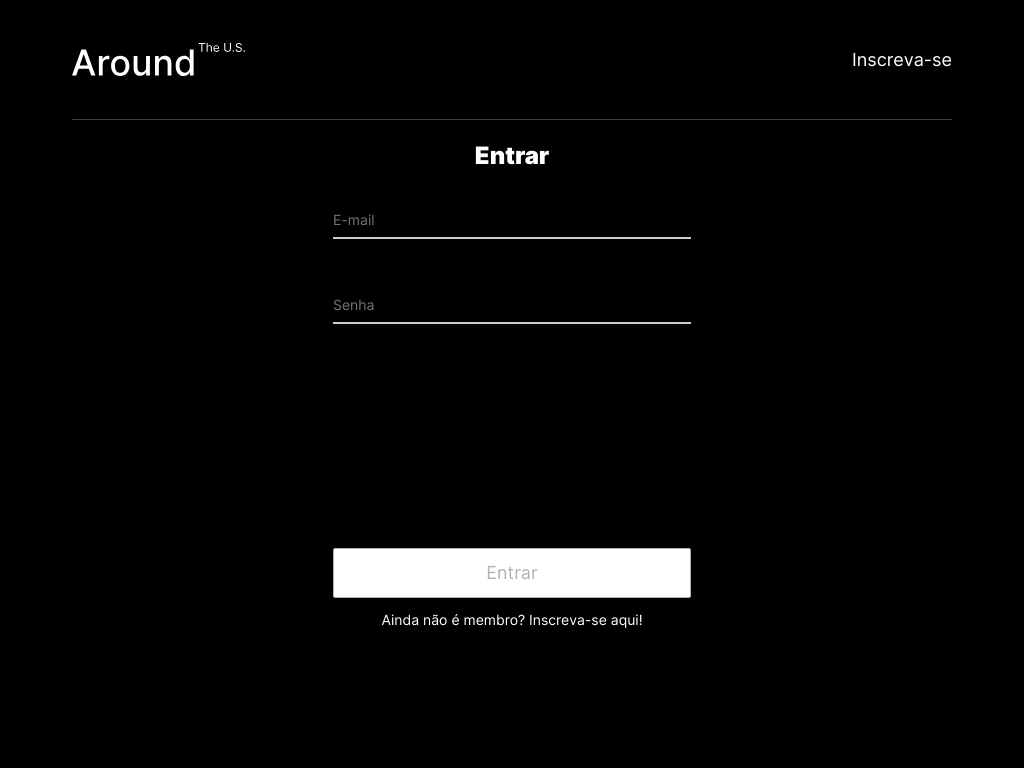
Login › não persiste nem autentica quando a verificação do JWT falha
The image size is (1024, 768).
Click the field with placeholder "E-mail": [512, 216] box [333,192,691,239]
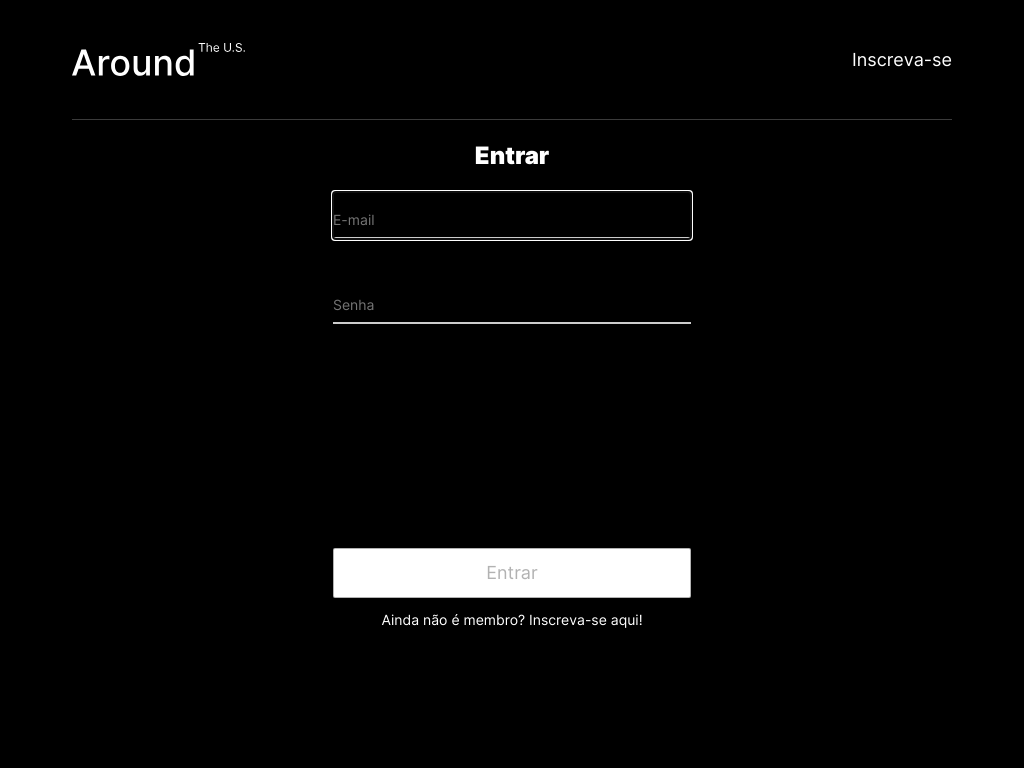
Type keys "ana@example.com"
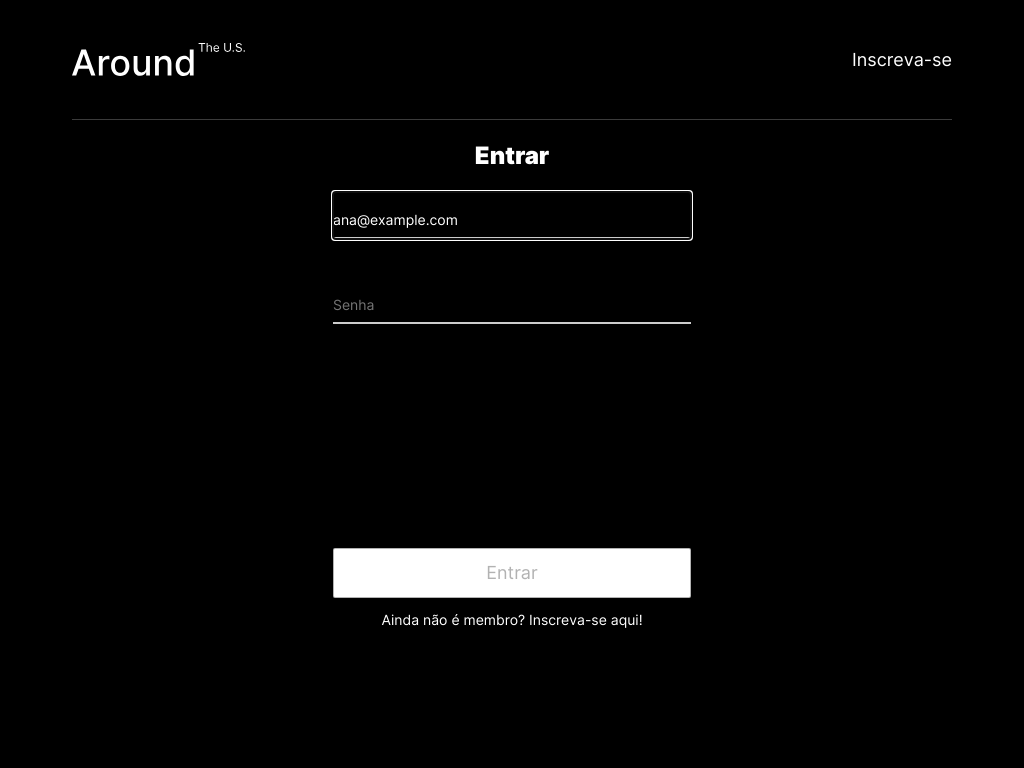
Click the password field with placeholder "Senha": [512, 300] box [333,277,691,324]
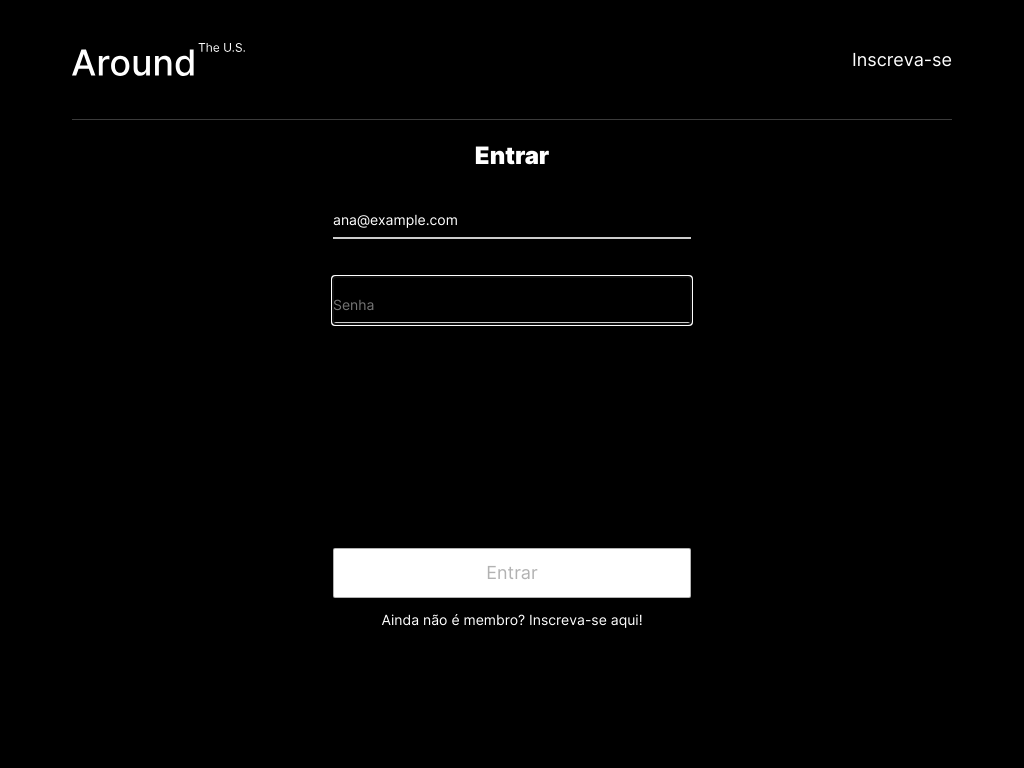
Type keys "Password123"
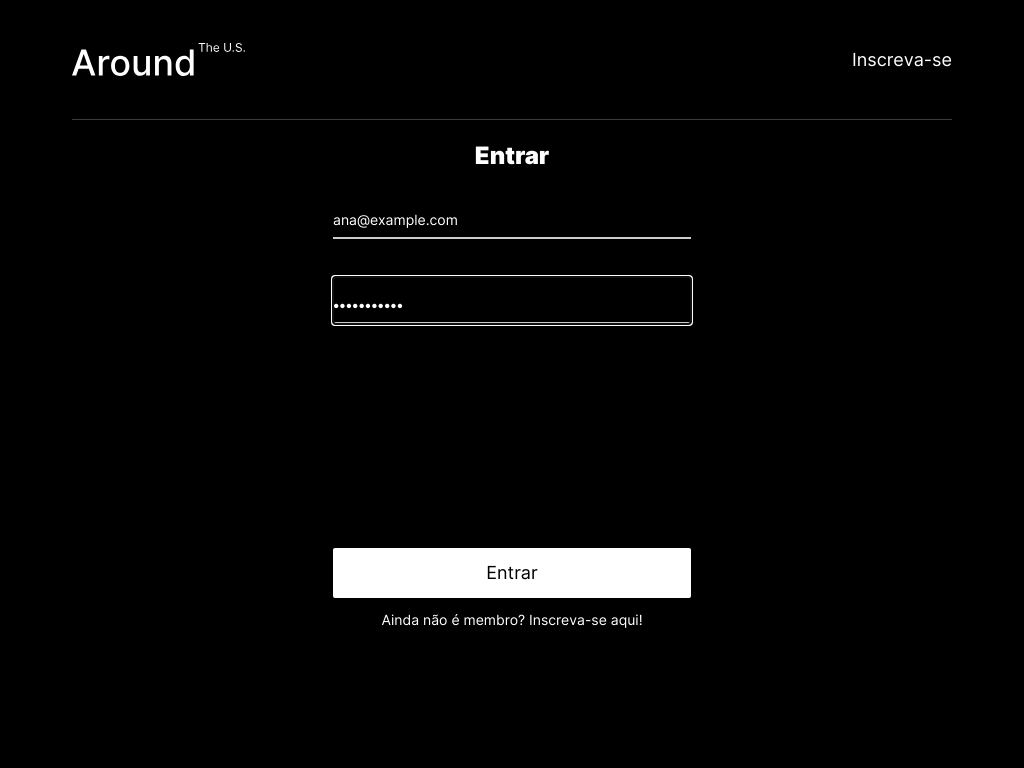
Click the button "Entrar": [512, 573] box [333,548,691,598]
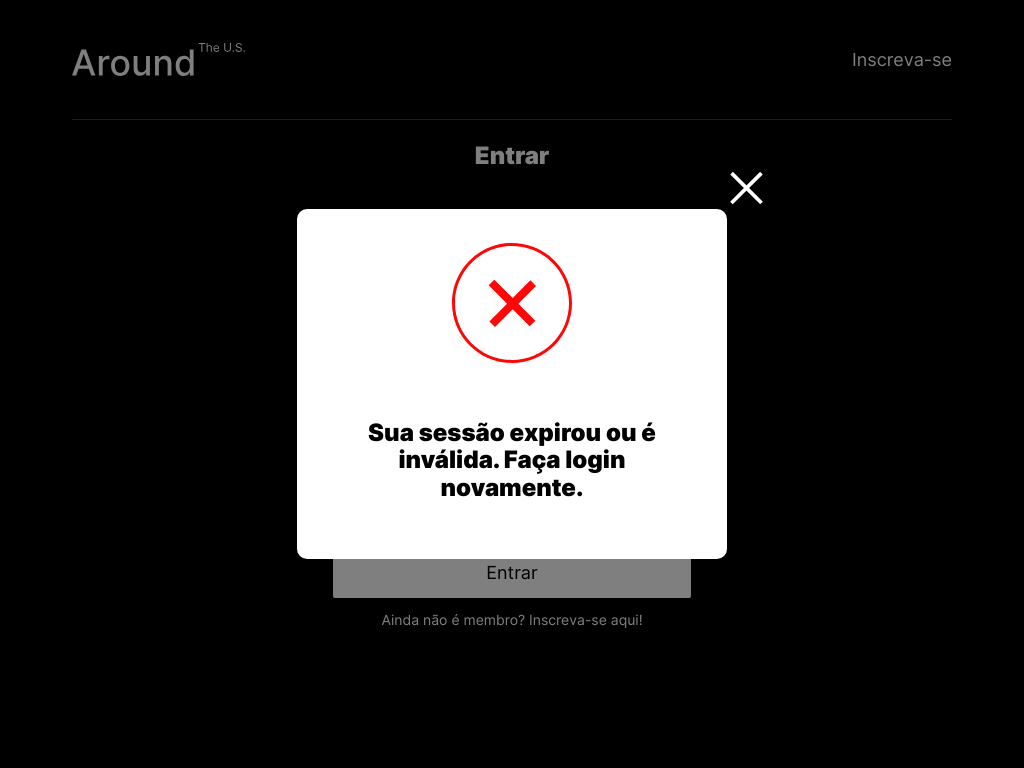
Result: the button "Entrar" is enabled at [333,548,691,598]
Result: the heading "Sua sessão expirou ou é inválida. Faça login novamente." is shown at [368,418,656,502]
